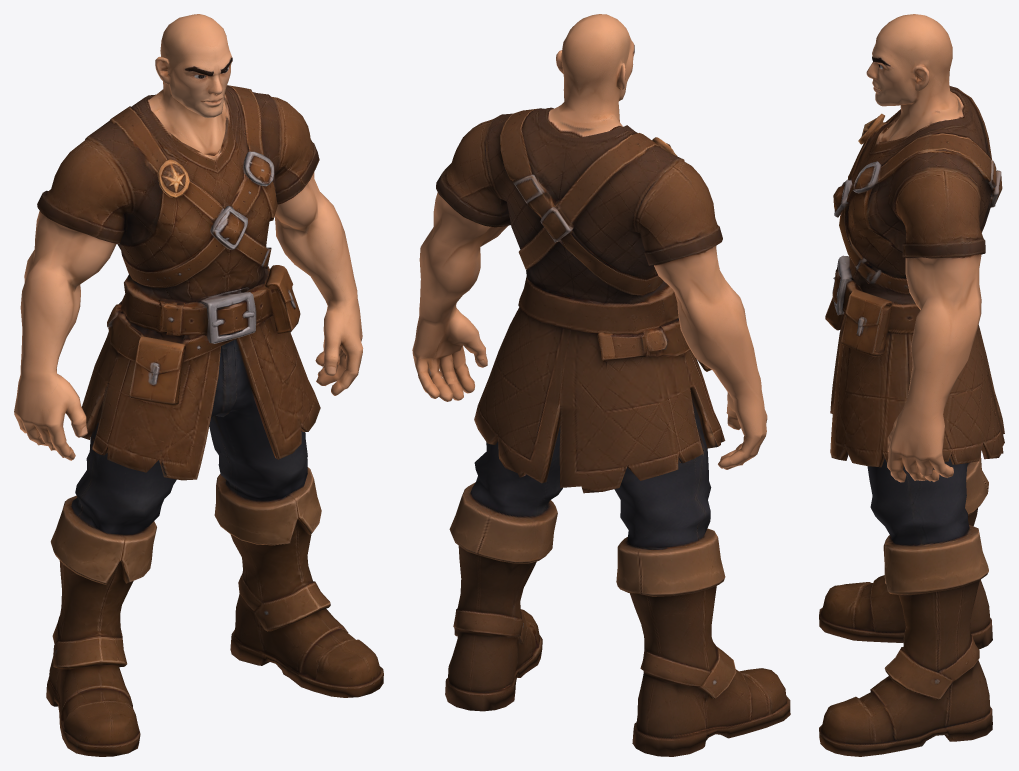
File: meshy-basis.glb
3 renders of one model, left to right at view 1: azimuth 30°, elevation 25°; view 2: azimuth 150°, elevation 25°; view 3: azimuth 270°, elevation 25°, orthographic. The views are drawn at different scales.
Bounding box in the file's own units: 0.5073 × 0.9512 × 0.2407.
Materials: 1 (1 with a texture image).
